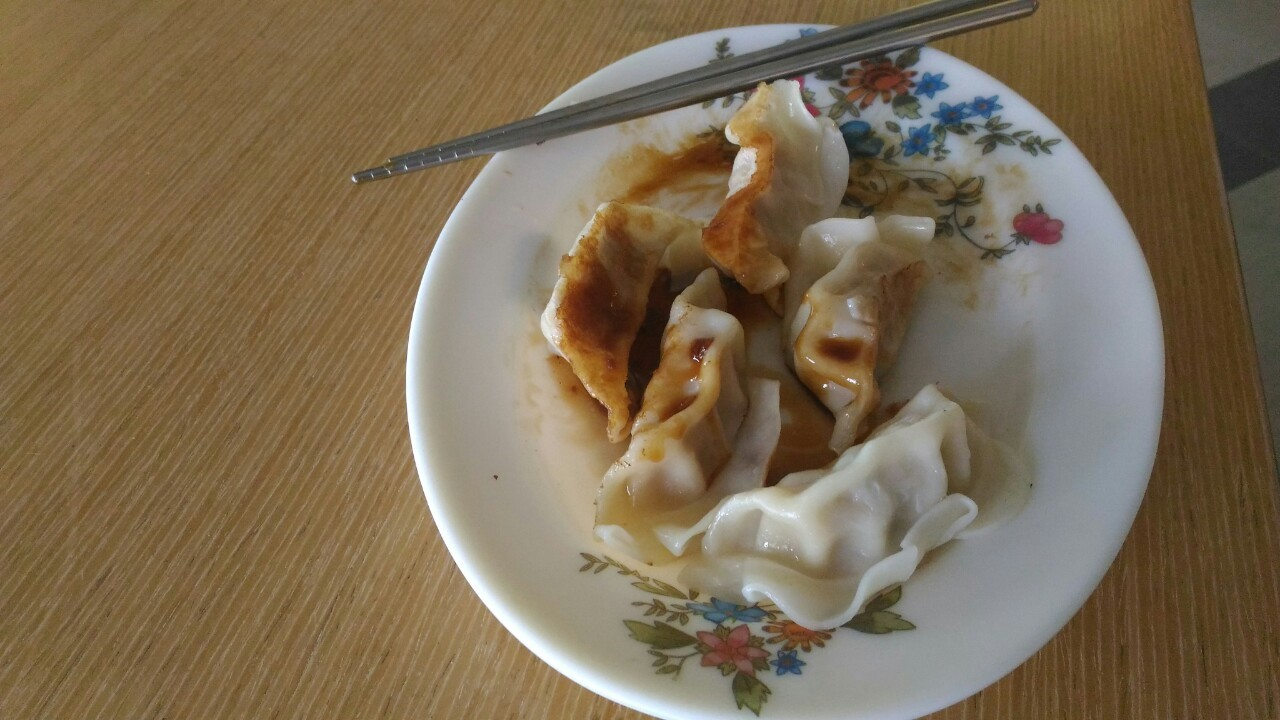fried_dumplings: (543, 78, 1038, 634)
